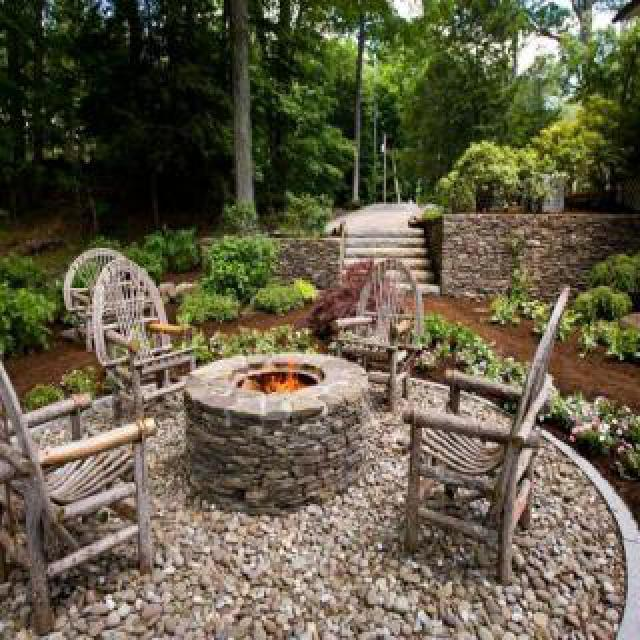Fire: (260, 342, 304, 402)
